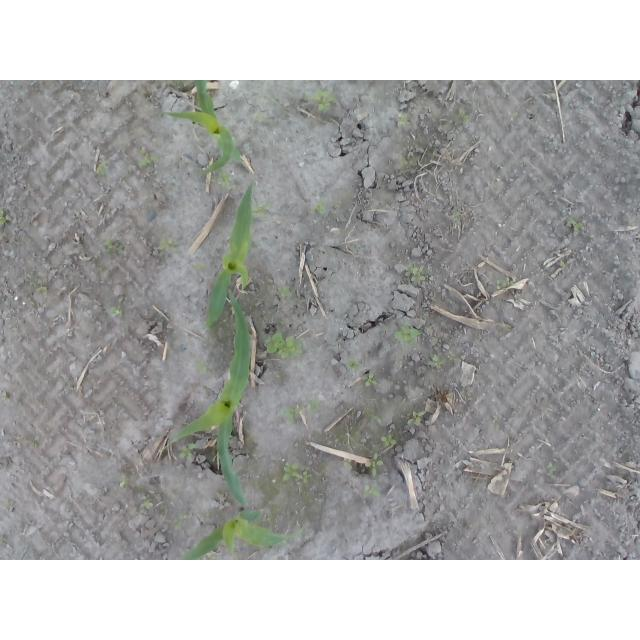Maize: (158, 288, 255, 509), (165, 80, 244, 178), (206, 184, 256, 328), (181, 509, 311, 560)
Weeds: (266, 334, 305, 358), (286, 401, 322, 423), (348, 361, 377, 387), (307, 90, 333, 115), (282, 464, 308, 485), (396, 327, 422, 347), (138, 150, 161, 170), (404, 265, 427, 283), (364, 454, 384, 474), (102, 242, 127, 255), (310, 199, 329, 216), (180, 444, 197, 461), (496, 279, 516, 293), (383, 435, 402, 449), (564, 220, 584, 233), (158, 239, 178, 252), (408, 411, 425, 426), (365, 485, 382, 500), (107, 300, 125, 313), (430, 355, 445, 369), (96, 159, 109, 173), (174, 515, 186, 529), (0, 212, 10, 228), (399, 112, 409, 127), (280, 285, 293, 296), (140, 500, 154, 509), (548, 463, 556, 477), (194, 260, 207, 268), (460, 112, 469, 123), (511, 111, 521, 120)
